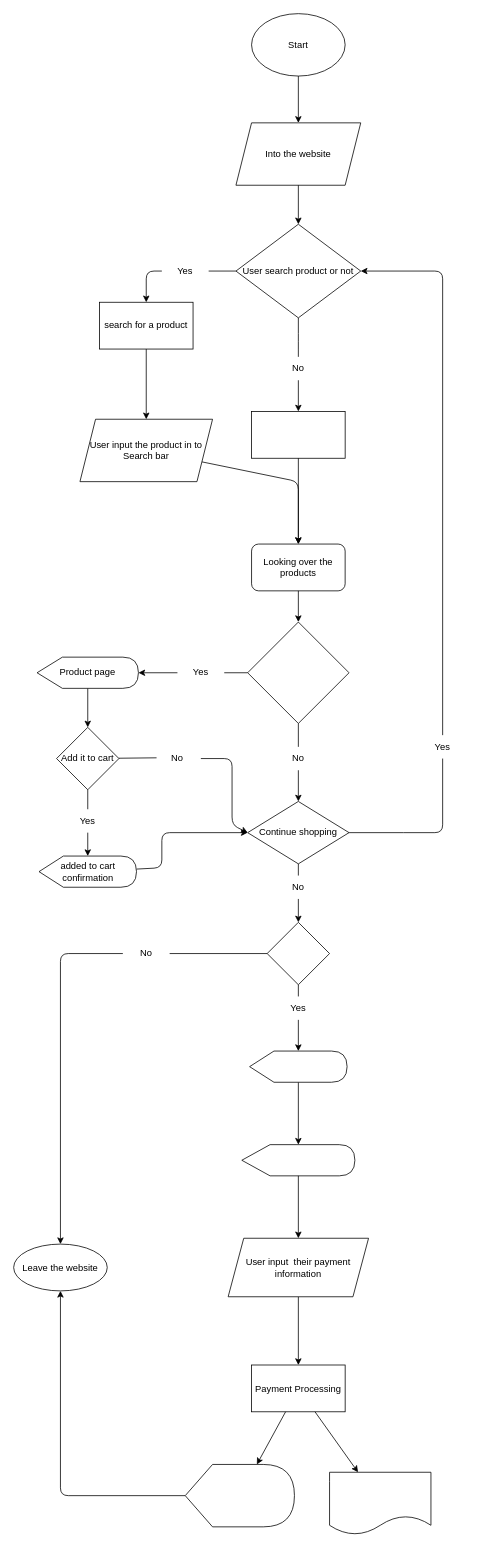
The diagram is 480 pixels wide and 1548 high, and some of its shapes have lost their labels. Each missing label, with the centre of its shape:
Check out: the point at 298,953
exploring the product: the point at 298,434
Order confirmation email: the point at 380,1503
Order confirmation screen: the point at 239,1495
View Cart screen: the point at 298,1066
View Payment screen: the point at 298,1160
View specific product: the point at 298,672
